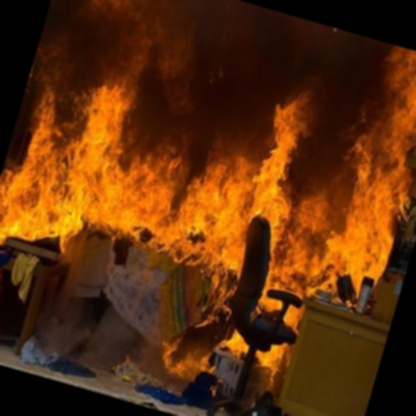fire: (0, 0, 416, 409)
